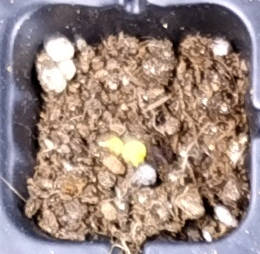pepper seed: (47, 57, 195, 225), (35, 58, 159, 210)
